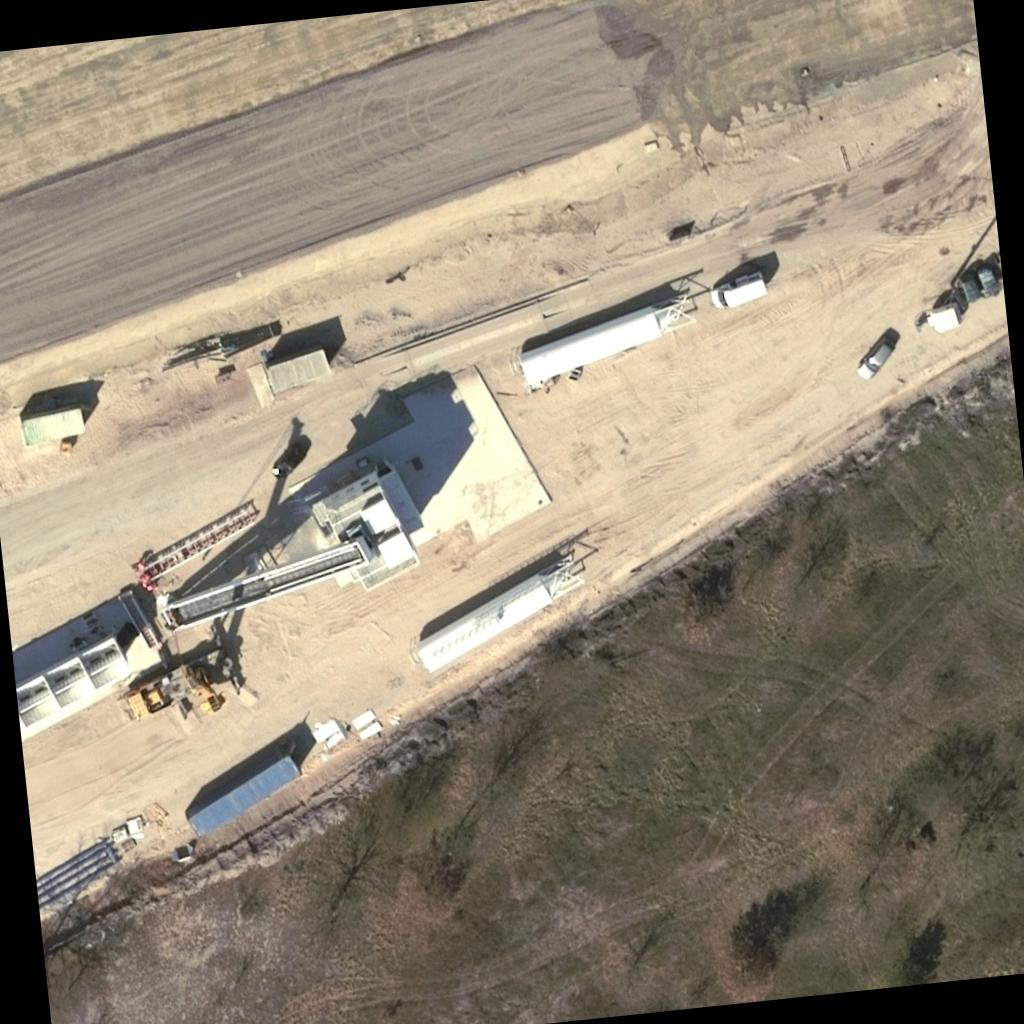kontener: (180, 742, 304, 836), (264, 348, 331, 394), (20, 404, 84, 444)
samochod_osobowy: (853, 333, 900, 382), (708, 270, 766, 308)
